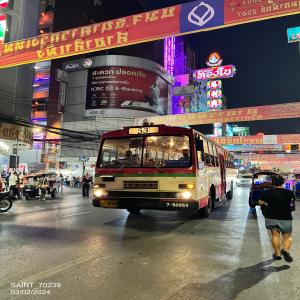BMTA-bus: (91, 125, 235, 218)
Bus Line Number: (134, 127, 151, 134)
Bus Side Number: (164, 202, 191, 207)
Destination Sign: (167, 159, 192, 167)
